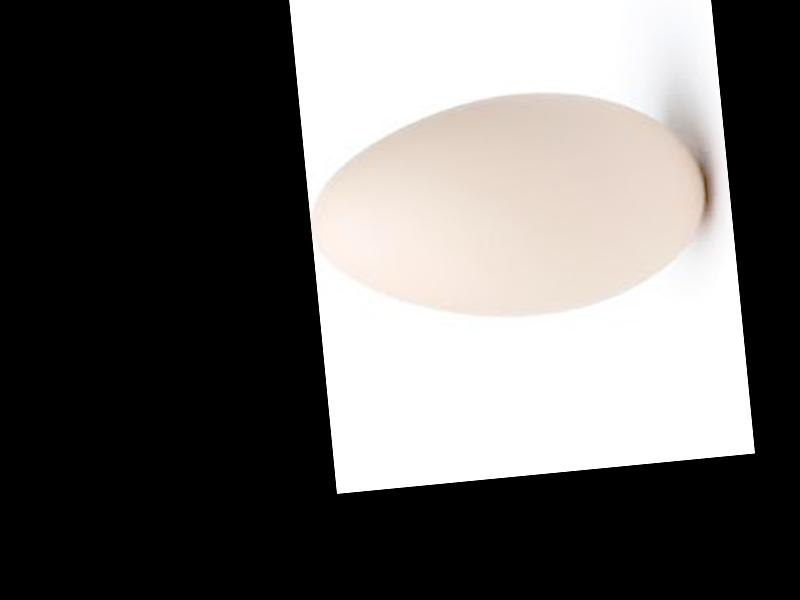Eggs: (303, 77, 720, 335)
